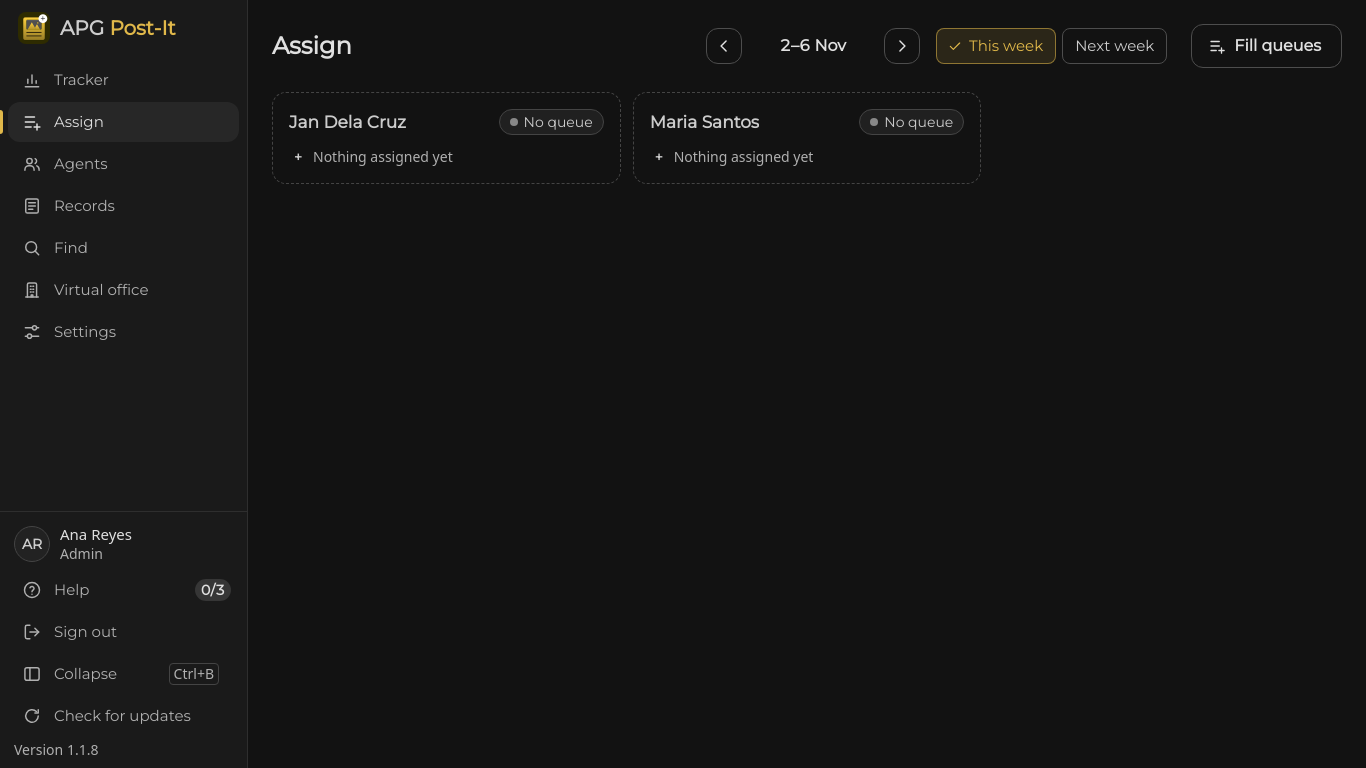
Test: Assign → Fill queues › ticks no one while the team can't be read: the tracker's names may be admins (D31)
Click the button "Fill queues": (1267, 46) top-left (1191, 24), bottom-right (1342, 68)
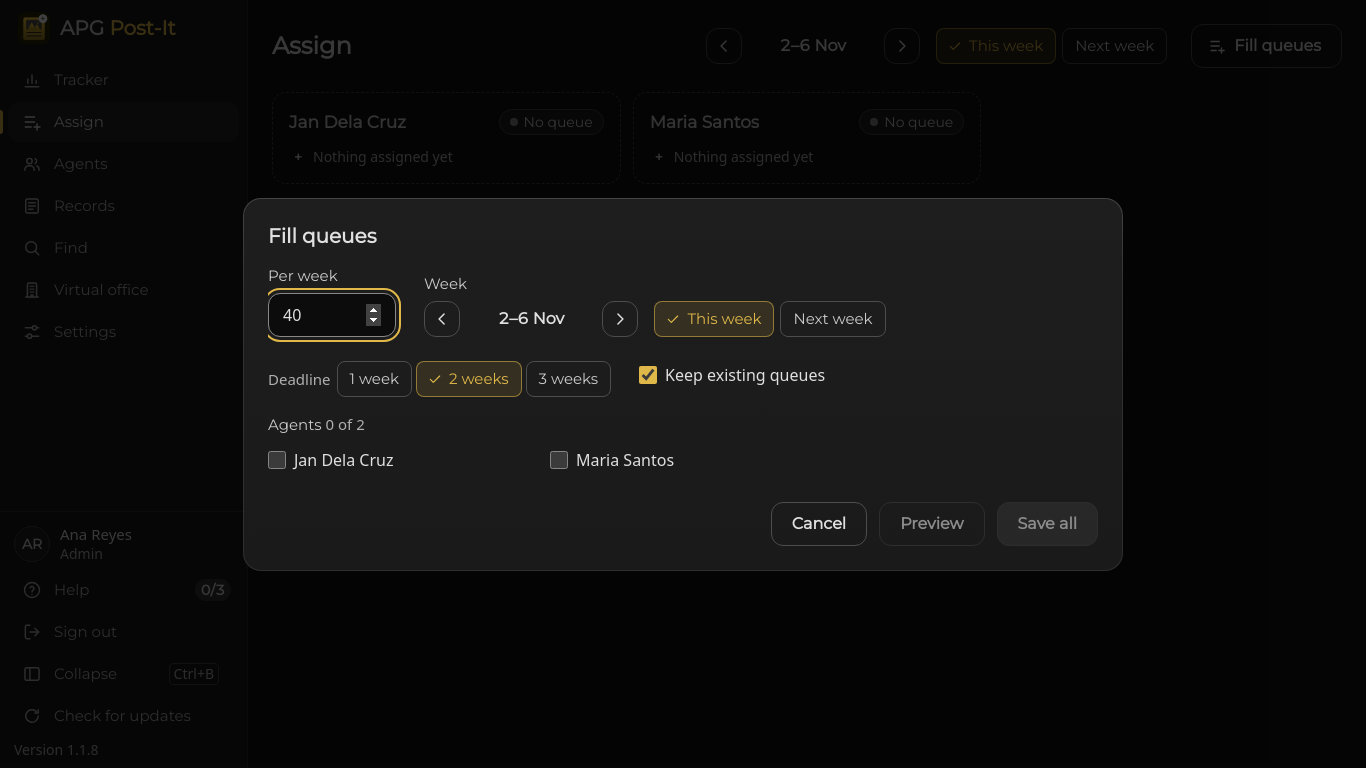
Now the element "Agents 0 of 2" is shown, box top-left (268, 414), bottom-right (674, 470)
Now the checkbox labelled "Maria Santos" is not checked, box top-left (550, 450), bottom-right (568, 468)
Now the checkbox labelled "Jan Dela Cruz" is not checked, box top-left (268, 450), bottom-right (286, 468)
